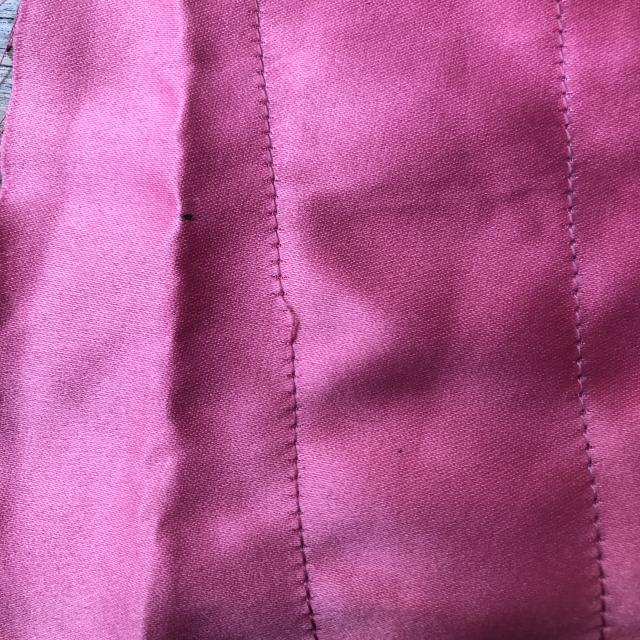skip: (252, 276, 316, 352)
